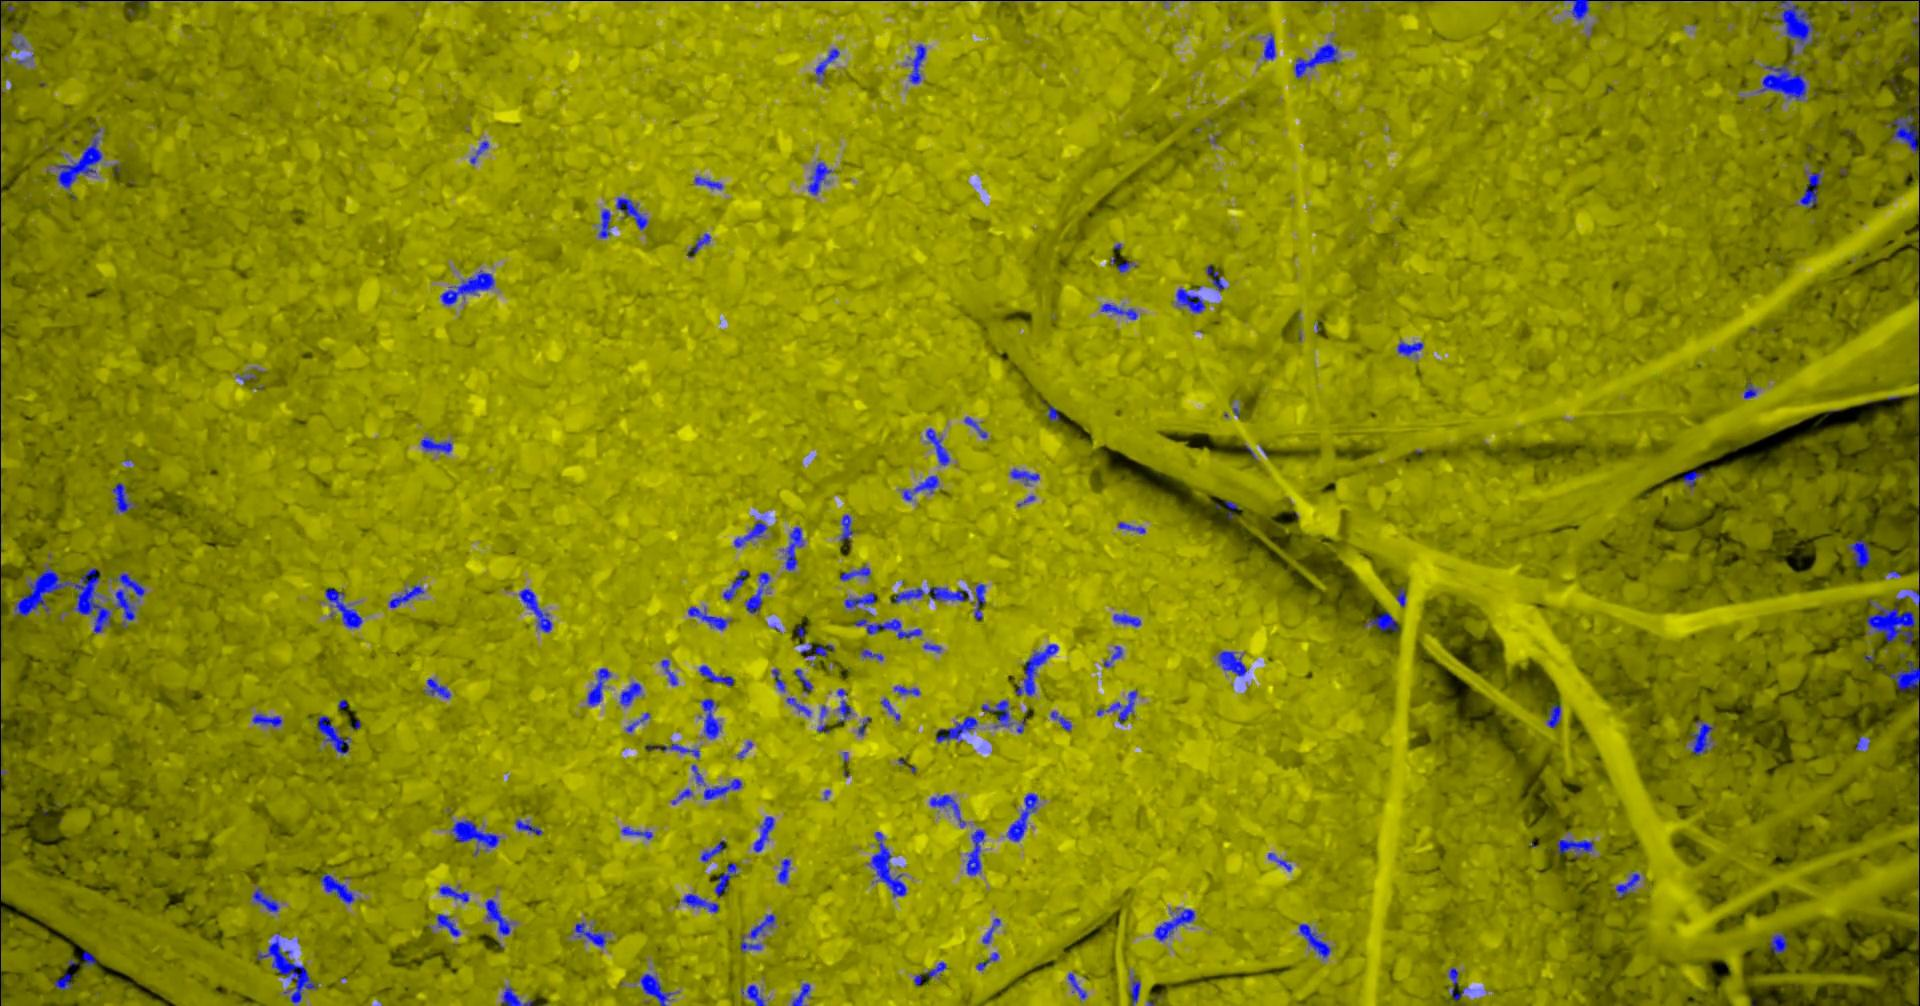ant: (55, 128, 102, 189), (869, 831, 905, 897), (1015, 643, 1057, 695), (1775, 0, 1813, 52), (1756, 60, 1806, 99), (439, 271, 494, 305), (110, 572, 143, 627), (1886, 113, 1919, 163), (1006, 793, 1037, 841), (1293, 43, 1337, 77), (450, 819, 499, 850), (324, 587, 361, 627), (518, 588, 551, 633), (1096, 688, 1137, 723), (853, 617, 921, 638), (316, 715, 350, 754), (1153, 907, 1194, 940), (894, 586, 968, 603), (930, 794, 965, 827), (484, 899, 516, 935), (1298, 923, 1330, 958), (639, 973, 673, 1005), (687, 606, 731, 630), (744, 572, 770, 614), (935, 716, 977, 742), (615, 197, 648, 229), (319, 873, 353, 903), (1888, 658, 1919, 691), (585, 667, 611, 705), (902, 475, 938, 500), (924, 427, 949, 465), (733, 521, 767, 547), (782, 526, 803, 570), (982, 699, 1013, 727), (1799, 169, 1822, 207), (1690, 720, 1716, 754), (965, 829, 984, 875), (700, 699, 721, 738), (815, 48, 839, 83), (645, 743, 698, 758), (752, 815, 775, 851), (574, 922, 606, 948), (808, 161, 832, 194), (389, 584, 423, 607), (703, 779, 742, 799), (743, 913, 775, 937), (714, 862, 737, 895), (1175, 288, 1205, 312), (112, 481, 136, 512), (723, 569, 747, 600), (1217, 650, 1246, 674), (1363, 612, 1399, 631), (908, 43, 926, 83), (698, 666, 733, 686), (682, 893, 717, 912), (1556, 840, 1592, 857), (251, 887, 278, 911), (1848, 539, 1870, 567), (502, 984, 531, 1005), (1448, 967, 1465, 1000), (1615, 873, 1639, 897), (618, 681, 641, 706), (1100, 304, 1137, 319), (687, 232, 710, 257), (420, 436, 451, 453), (797, 641, 833, 657), (423, 678, 450, 699), (742, 984, 768, 1005), (436, 913, 458, 936), (963, 417, 987, 438), (700, 840, 724, 861), (1205, 264, 1224, 291), (1067, 972, 1086, 998), (844, 592, 875, 608), (836, 688, 851, 721), (1010, 467, 1039, 484), (439, 885, 469, 902), (839, 565, 870, 580), (790, 982, 810, 1005), (1564, 0, 1589, 19), (786, 697, 810, 716), (625, 713, 649, 732), (1267, 852, 1291, 871), (973, 583, 985, 619), (794, 668, 811, 694), (620, 826, 651, 840), (880, 697, 900, 719), (469, 140, 488, 163), (982, 918, 999, 942), (514, 819, 542, 835), (660, 659, 677, 685), (1103, 645, 1123, 667), (977, 951, 998, 970), (598, 208, 612, 238), (251, 713, 281, 727), (1050, 711, 1070, 730), (1769, 932, 1787, 954), (53, 972, 75, 989), (1912, 9, 1919, 69), (1397, 340, 1423, 354), (695, 177, 723, 189), (1112, 614, 1140, 626), (1683, 470, 1702, 488), (839, 514, 852, 541), (670, 788, 691, 804), (739, 936, 761, 951), (924, 962, 946, 977), (777, 857, 790, 883), (1117, 522, 1145, 533), (0, 0, 30, 10), (1263, 32, 1275, 58), (1223, 499, 1238, 518), (860, 648, 883, 661), (771, 668, 783, 691), (1547, 704, 1559, 727), (691, 763, 703, 785), (893, 685, 919, 695), (1129, 978, 1139, 1005), (81, 950, 97, 967), (857, 716, 870, 735), (1117, 260, 1137, 272), (1743, 382, 1757, 398), (923, 641, 941, 652), (1855, 735, 1868, 749), (1048, 405, 1059, 420), (1396, 587, 1404, 606)
